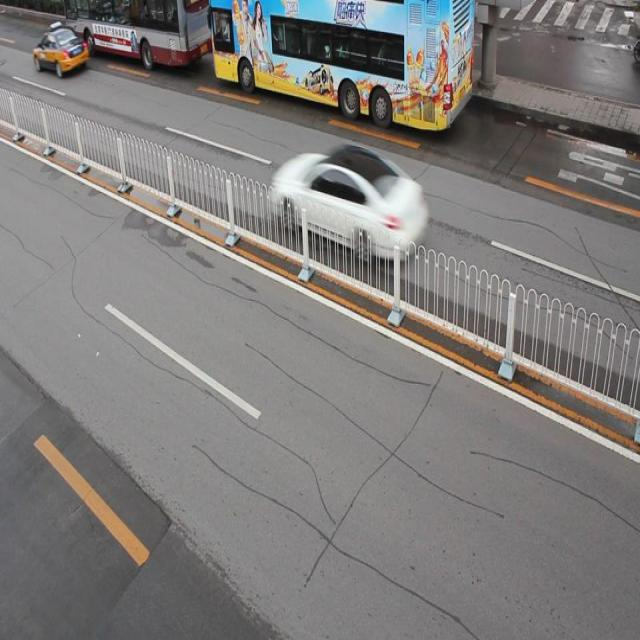car: (270, 142, 425, 262), (33, 24, 89, 79)
van: (209, 1, 474, 127), (63, 1, 210, 64)
